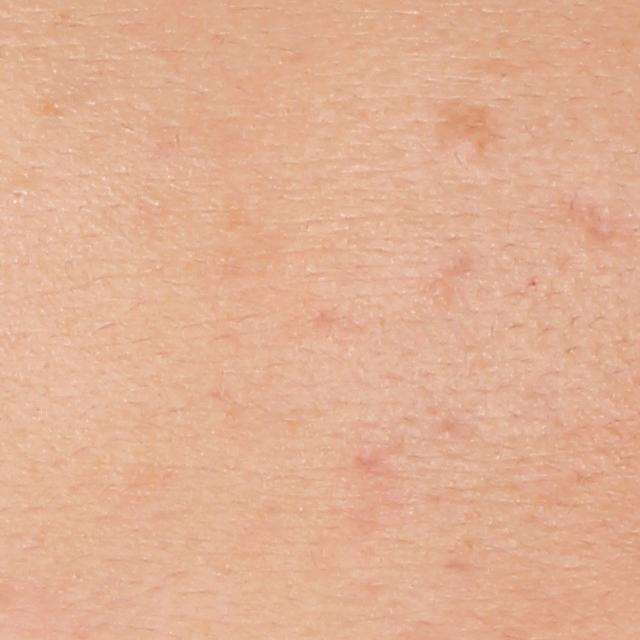comedo: (3, 183, 30, 210)
